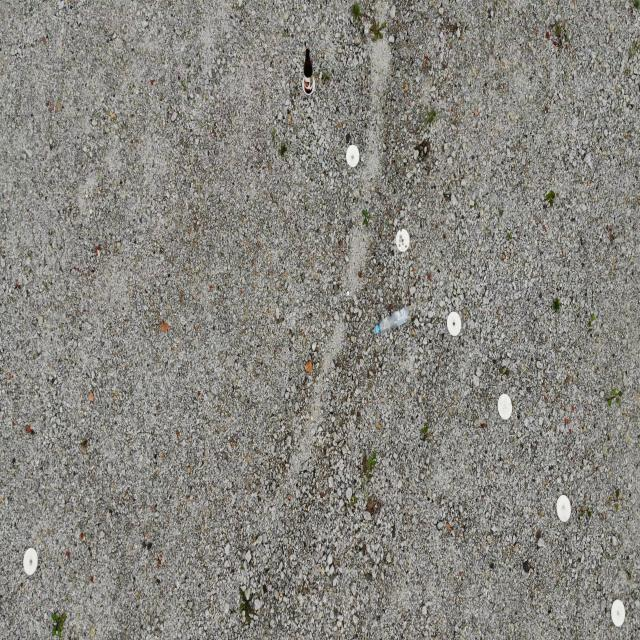rubbish: (373, 306, 411, 333), (303, 49, 312, 93)
